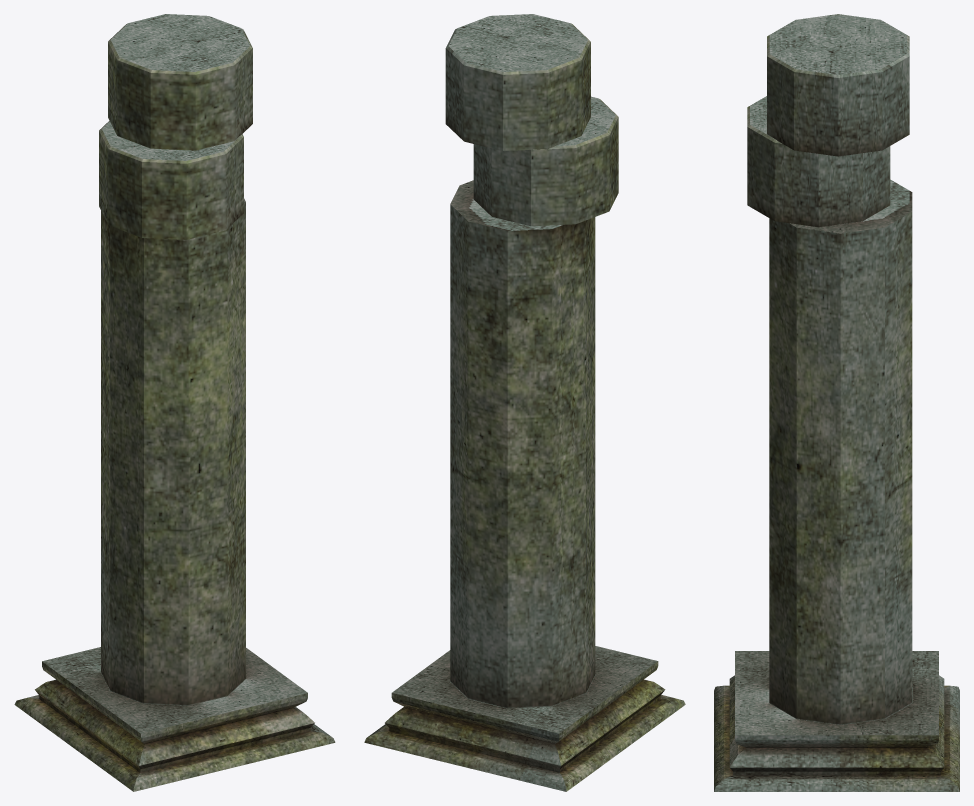
The model's file is Column3.FBX.
3 views of the same model, side by side, from view 1: azimuth 30°, elevation 25°; view 2: azimuth 150°, elevation 25°; view 3: azimuth 270°, elevation 25° (orthographic). The views are drawn at different scales.
Parts seen in each view (by area): view 1: ColumnMesh002; view 2: ColumnMesh002; view 3: ColumnMesh002.
Part boxes in pixels (left/top/right/bottom): ColumnMesh002: left=14, top=14, right=335, bottom=791; ColumnMesh002: left=364, top=14, right=685, bottom=791; ColumnMesh002: left=714, top=14, right=959, bottom=791.
Size of the model in its own units: 27.53 by 88.42 by 28.14.
